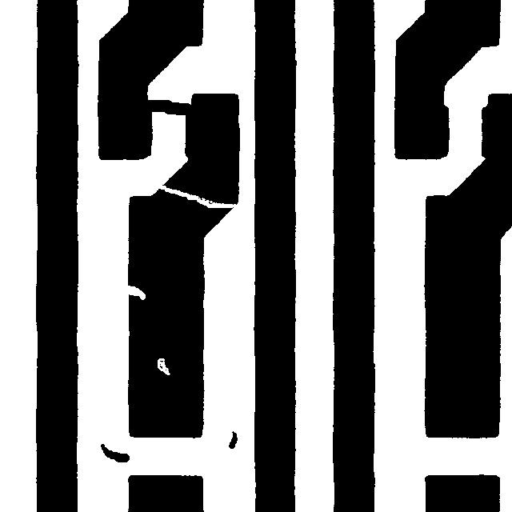copper: (93, 436, 137, 470), (221, 423, 245, 456)
mousebite: (117, 278, 153, 307)
open: (147, 176, 244, 215)
pin-hole: (150, 350, 178, 382)
short: (134, 92, 200, 122)
